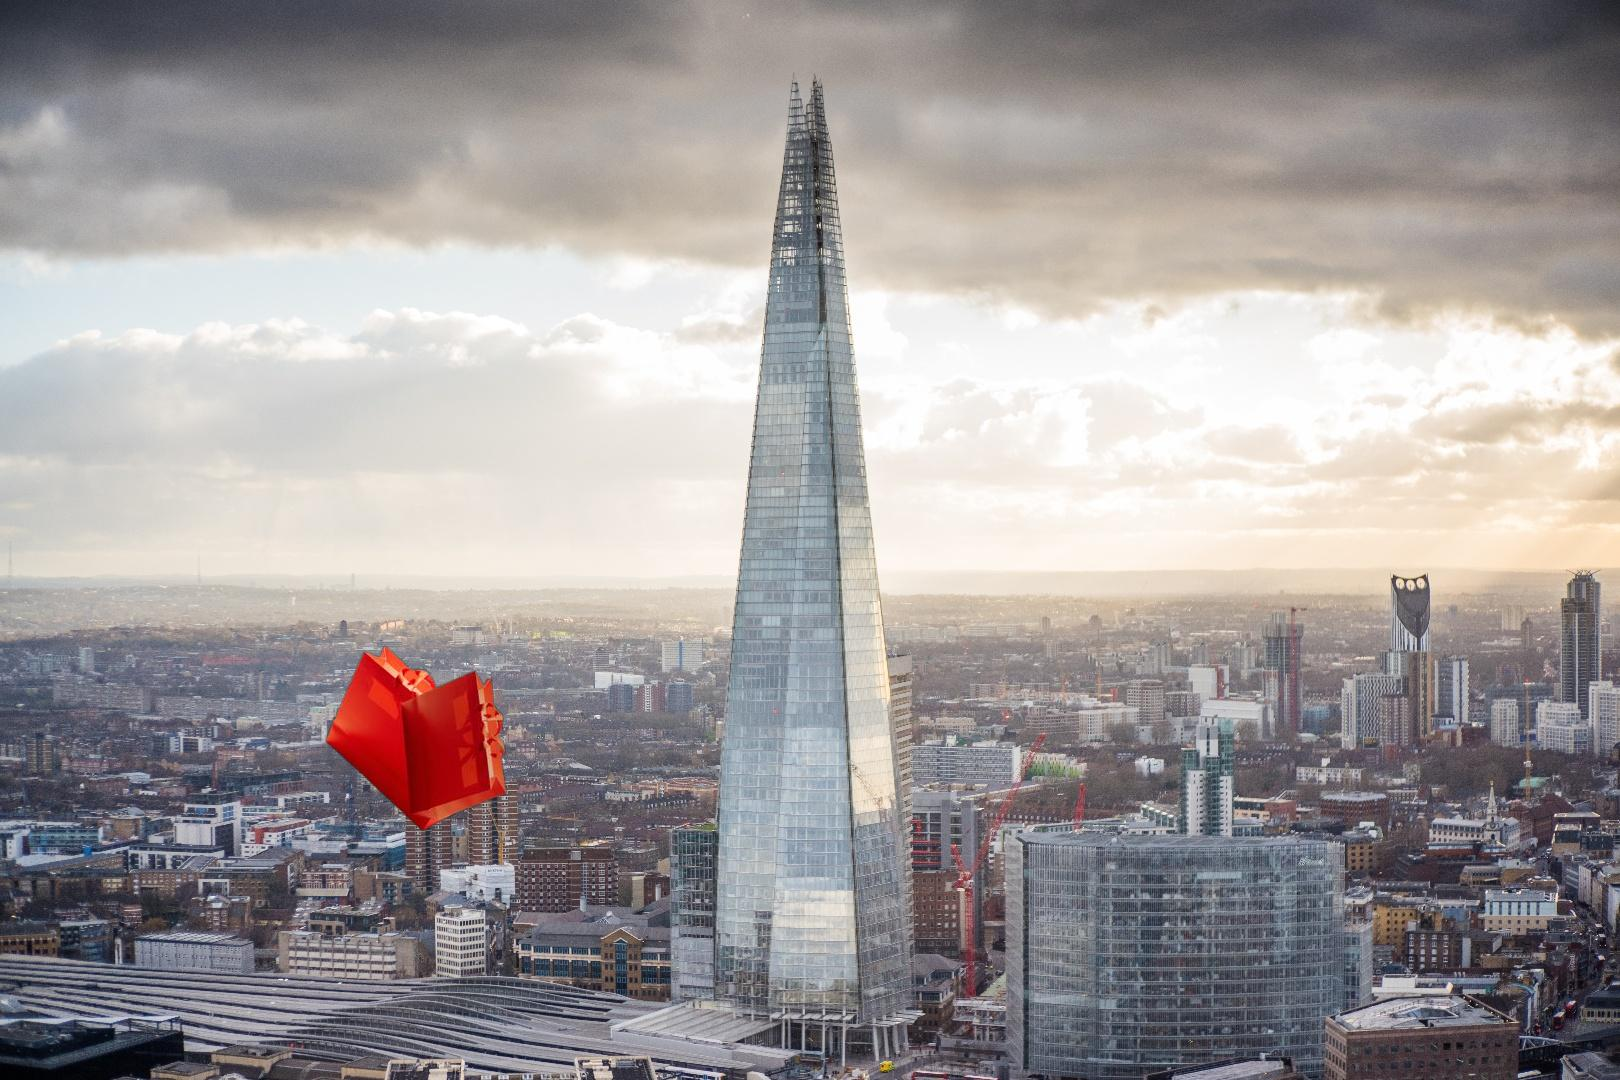paper-bag: (322, 644, 507, 834)
